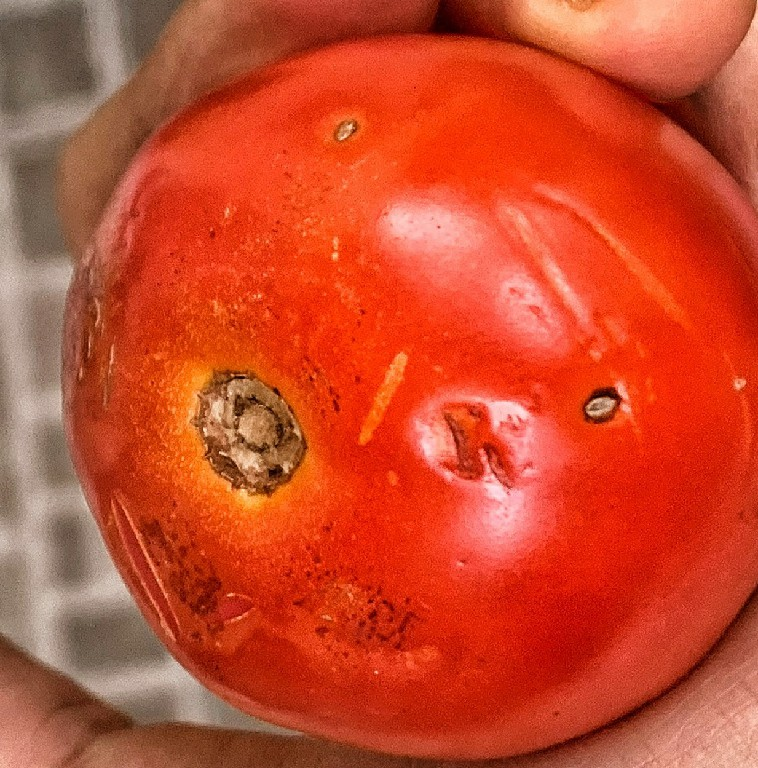NG: (55, 34, 752, 766)
